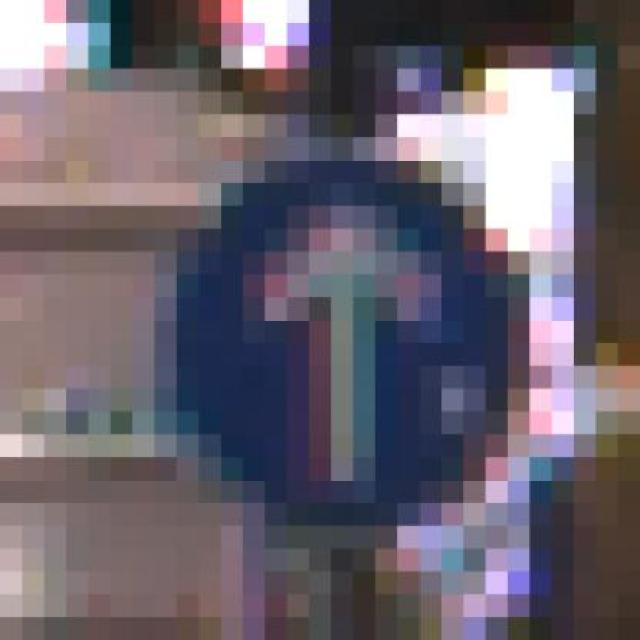Straight Ahead Only: (155, 114, 530, 572)
